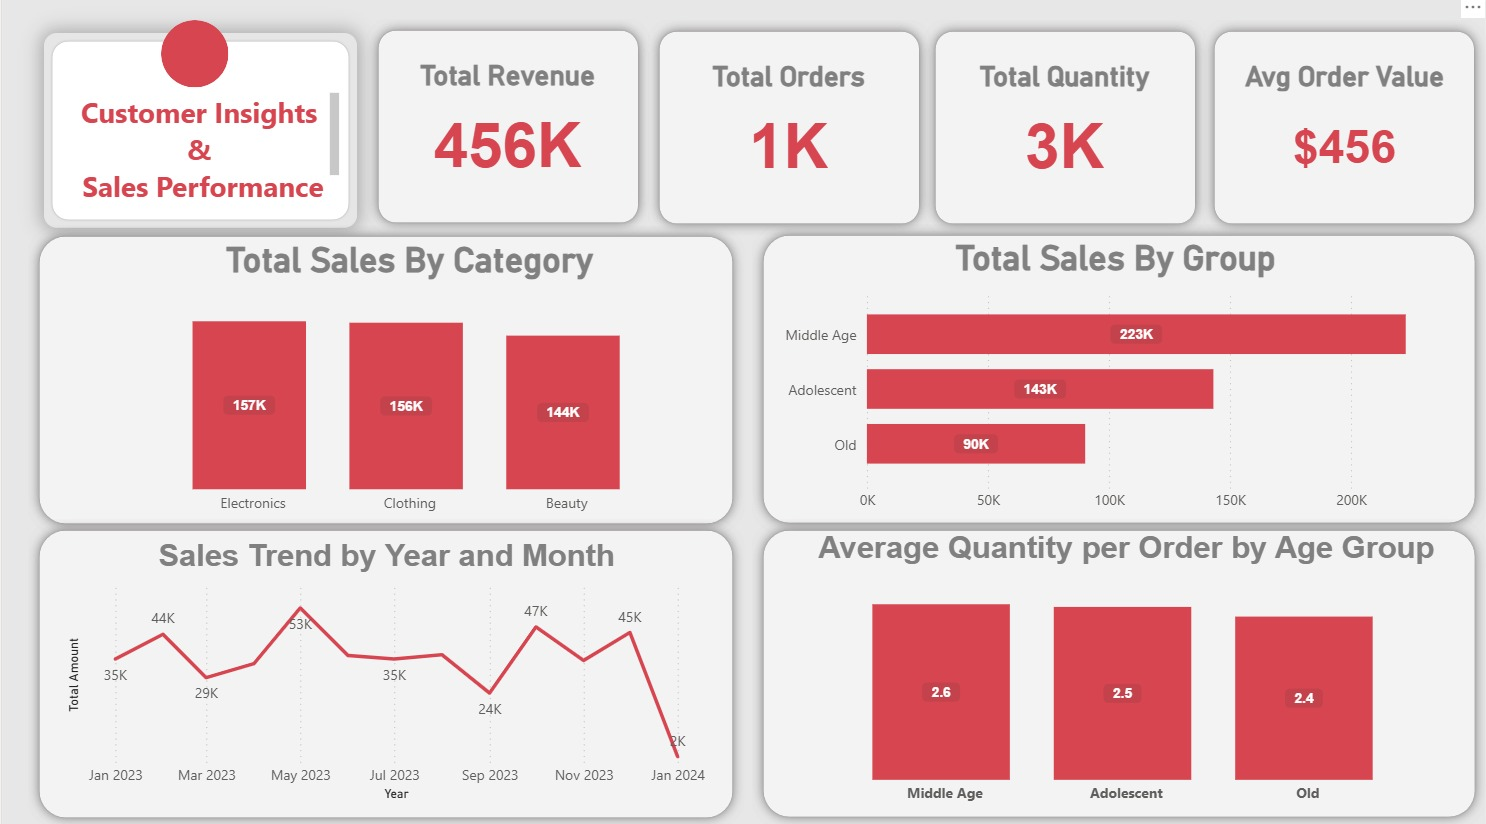

Layout of this report page (visuals, bound fields, positions):
{"tool":"powerbi","page":{"name":"Page 1","canvas":[1280,720],"ordinal":0},"visuals":[{"type":"shape","box":[0,0,1280,720.2],"z":0},{"type":"shape","title":"   ","box":[36.2,33.6,270,168.2],"z":1000},{"type":"textbox","box":[51.8,80.2,244.1,105.2],"z":2000},{"type":"shape","box":[136.9,22.1,58.3,58.3],"z":3000},{"type":"shape","title":"  ","box":[315.2,21.8,243.8,185.5],"z":4000},{"type":"shape","title":"  ","box":[22.4,199.2,617.6,267.4],"z":5000},{"type":"shape","title":"  ","box":[22.4,452.8,617.6,267.4],"z":6000},{"type":"shape","title":"  ","box":[646.6,198.8,633.4,267.7],"z":7000},{"type":"shape","title":"  ","box":[646.6,453.2,633.4,266.8],"z":8000},{"type":"cardVisual","title":" Total Revenue","fields":{"Data":["Sum(Retail Sales Data Set (2).Total Sales Revenue)"]},"box":[338.2,56.3,196.1,129],"z":9000},{"type":"columnChart","title":"Total Sales By Category","fields":{"Category":["Retail Sales Data Set.Product Category"],"Y":["Sum(Retail Sales Data Set (2).Sales)"]},"box":[105,212,493,245],"z":10000},{"type":"barChart","title":"Total Sales By Group","fields":{"Category":["Retail Sales Data Set.Age Group"],"Y":["Sum(Retail Sales Data Set.Total Amount)"]},"box":[665.2,210.2,591,244.7],"z":11000},{"type":"lineChart","title":"Sales Trend by Year and Month","fields":{"Category":["Retail Sales Data Set.Date.Variation.Date Hierarchy.Year","Retail Sales Data Set.Date.Variation.Date Hierarchy.Month"],"Y":["Sum(Retail Sales Data Set.Total Amount)"]},"box":[52,473,560,228],"z":12000},{"type":"columnChart","title":"Average Quantity per Order by Age Group","fields":{"Category":["Retail Sales Data Set.Age Group"],"Y":["Retail Sales Data Set.Avg Quantity"]},"box":[682.8,465.5,573.3,242],"z":13000},{"type":"shape","title":"  ","box":[557.5,22.1,243.8,185.5],"z":14000},{"type":"cardVisual","title":" Total Orders","fields":{"Data":["CountNonNull(Retail Sales Data Set.Transaction ID)"]},"box":[580.5,56.5,196.1,129],"z":15000},{"type":"shape","title":"  ","box":[795.1,22.1,243.8,185.5],"z":16000},{"type":"cardVisual","title":" Total Quantity","fields":{"Data":["Sum(Retail Sales Data Set.Quantity)"]},"box":[818.1,56.5,196.1,129],"z":17000},{"type":"shape","title":"  ","box":[1036.2,22.1,243.8,185.5],"z":18000},{"type":"cardVisual","title":"Avg Order Value","fields":{"Data":["Retail Sales Data Set (2).Avg Order Value"]},"box":[1060,56.5,196.1,129],"z":19000}]}

Visuals, with their boxes in screenshot pixels (x1, y1, x2, y2), scaled from the page's 1280x720 canvas onto the 1486x824 screenshot:
shape: (left=0, top=0, right=1485, bottom=823)
"   " shape: (left=42, top=38, right=355, bottom=231)
textbox: (left=60, top=92, right=344, bottom=212)
shape: (left=159, top=25, right=227, bottom=92)
"  " shape: (left=366, top=25, right=649, bottom=237)
"  " shape: (left=26, top=228, right=743, bottom=534)
"  " shape: (left=26, top=518, right=743, bottom=823)
"  " shape: (left=751, top=228, right=1485, bottom=534)
"  " shape: (left=751, top=519, right=1485, bottom=823)
" Total Revenue" cardVisual: (left=393, top=64, right=620, bottom=212)
"Total Sales By Category" columnChart: (left=122, top=243, right=694, bottom=523)
"Total Sales By Group" barChart: (left=772, top=241, right=1458, bottom=521)
"Sales Trend by Year and Month" lineChart: (left=60, top=541, right=710, bottom=802)
"Average Quantity per Order by Age Group" columnChart: (left=793, top=533, right=1458, bottom=810)
"  " shape: (left=647, top=25, right=930, bottom=238)
" Total Orders" cardVisual: (left=674, top=65, right=902, bottom=212)
"  " shape: (left=923, top=25, right=1206, bottom=238)
" Total Quantity" cardVisual: (left=950, top=65, right=1177, bottom=212)
"  " shape: (left=1203, top=25, right=1485, bottom=238)
"Avg Order Value" cardVisual: (left=1231, top=65, right=1458, bottom=212)
